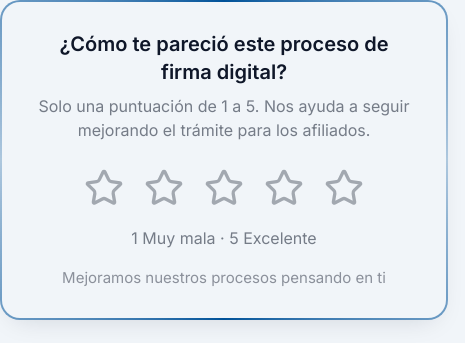
Test case: ConvenioSatisfactionRating › shows a hover preview without persisting a selection
The width and height of the screenshot is (465, 343).
Step 1. Hover over the radio button named "3 de 5" → [224, 188], box [198,162,250,214]
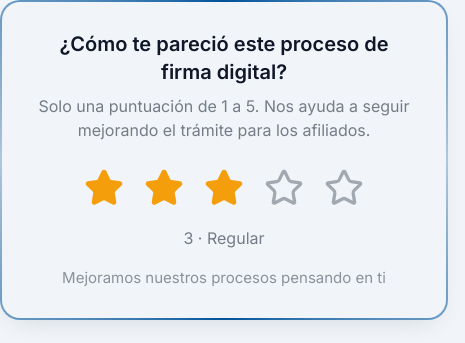
Check: the text "3 · Regular" is shown, box [184,228,264,248]
Step 2. Move the pointer off the radio button named "3 de 5", box [198,162,250,214]
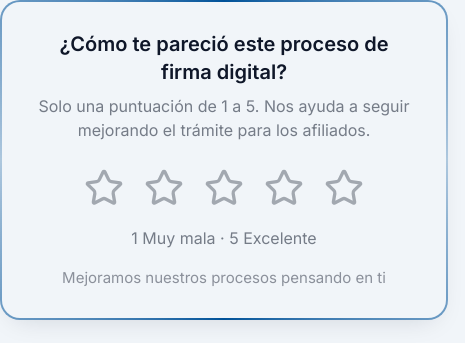
Check: the text "1 Muy mala · 5 Excelente" is shown, box [131,228,317,248]
